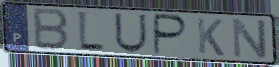B: (32, 6, 70, 53)
K: (195, 16, 226, 58)
L: (76, 9, 106, 54)
N: (230, 16, 269, 60)
P: (152, 12, 190, 57)
U: (113, 12, 149, 54)
